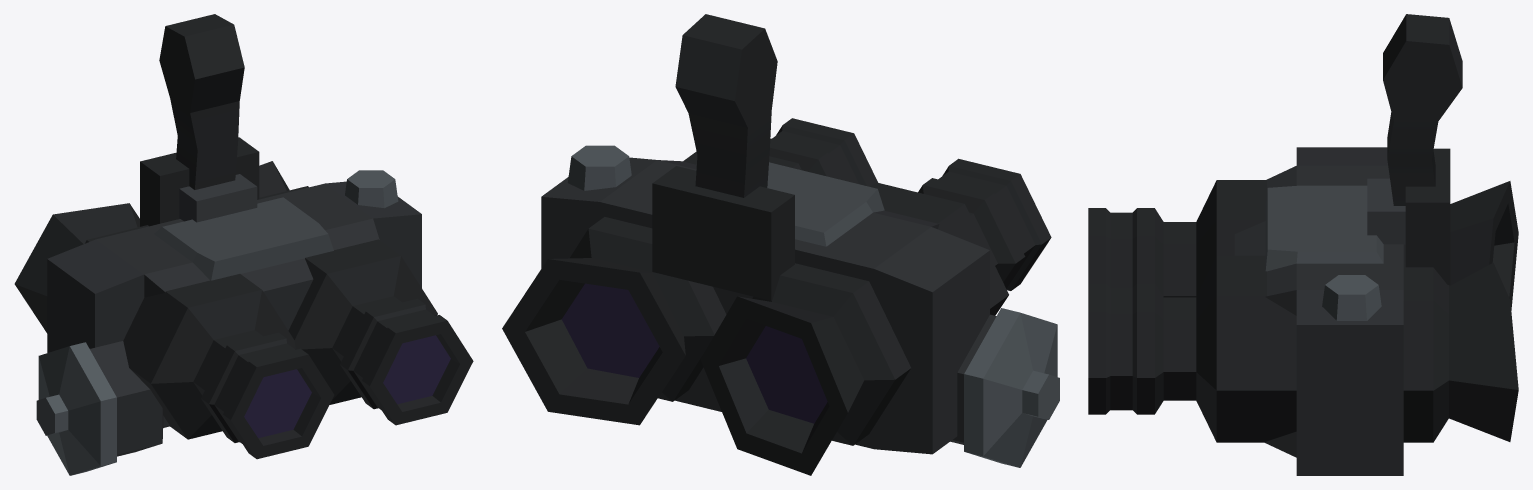
Rendered from SM_Chr_Attach_NVG_02.fbx.
3 renders of one model, left to right at view 1: azimuth 30°, elevation 25°; view 2: azimuth 150°, elevation 25°; view 3: azimuth 270°, elevation 25°, orthographic. The views are drawn at different scales.
Parts seen in each view (by area): view 1: SM_Chr_Attach_NVG_02; view 2: SM_Chr_Attach_NVG_02; view 3: SM_Chr_Attach_NVG_02.
Boxes of the visible parts, <box> form: SM_Chr_Attach_NVG_02: <box>14,14,473,475</box>; SM_Chr_Attach_NVG_02: <box>502,14,1059,475</box>; SM_Chr_Attach_NVG_02: <box>1088,14,1518,475</box>.
Bounding box in the file's own units: 19.01 × 17.53 × 16.91.
